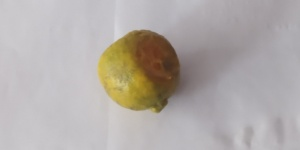BAD: (99, 29, 179, 117)
